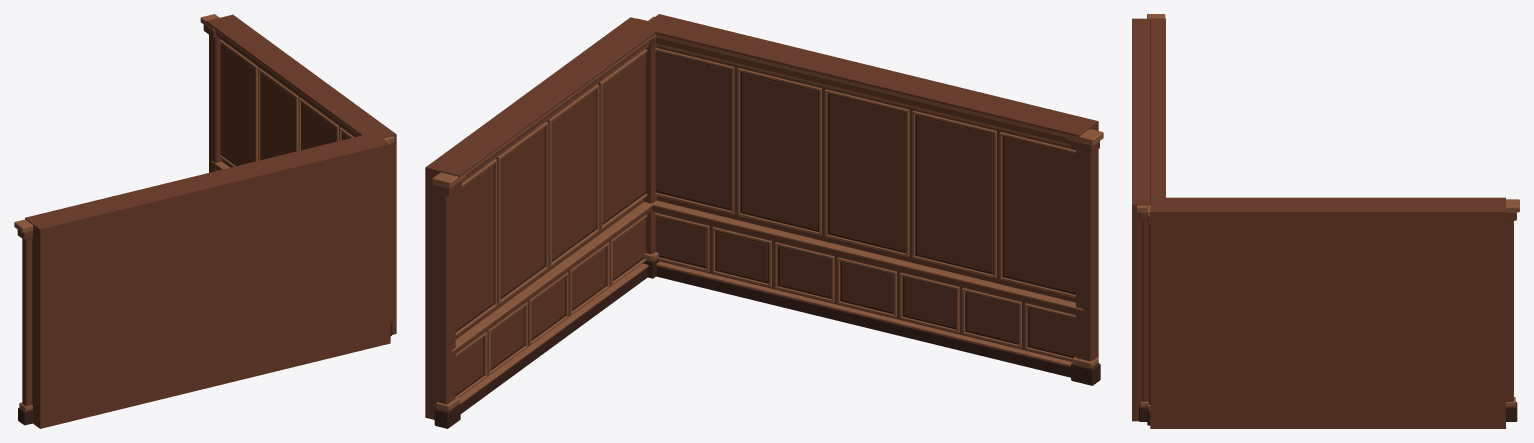
File: bp_complete_shell.glb
3 renders of one model, left to right at view 1: azimuth 30°, elevation 25°; view 2: azimuth 150°, elevation 25°; view 3: azimuth 270°, elevation 25°, orthographic. The views are drawn at different scales.
Parts seen in each view (by area): view 1: B_P_front_Wall_Solid_00, B_P_right_Wall_UpperPanel_00_0_0_Field, B_P_right_Wall_Solid_00, B_P_front_Wall_Cornice_00_3_0, B_P_right_Wall_UpperPanel_00_0_1_Field, B_P_right_Wall_Cornice_00_3_0, Pilaster_Shaft_009, Pilaster_Shaft_004, B_P_right_Wall_UpperPanel_00_0_2_Field, B_P_right_Wall_Cornice_00_1_0; view 2: B_P_front_Wall_Solid_00, B_P_front_Wall_UpperPanel_00_0_2_Field, B_P_front_Wall_UpperPanel_00_0_3_Field, B_P_front_Wall_UpperPanel_00_0_0_Field, B_P_front_Wall_UpperPanel_00_0_1_Field, B_P_front_Wall_UpperPanel_00_0_4_Field, B_P_right_Wall_Solid_00, B_P_right_Wall_UpperPanel_00_0_1_Field, B_P_right_Wall_UpperPanel_00_0_2_Field, B_P_right_Wall_UpperPanel_00_0_3_Field, B_P_right_Wall_UpperPanel_00_0_0_Field, B_P_front_Wall_Cornice_00_3_0 (+36 smaller); view 3: B_P_right_Wall_Solid_00, B_P_front_Wall_Solid_00, B_P_front_Wall_Cornice_00_3_0, B_P_right_Wall_Cornice_00_3_0, Pilaster_Shaft_004, Pilaster_Shaft_005.
Boxes of the visible parts, <box> form: B_P_front_Wall_Solid_00: <box>32,138,390,428</box>; B_P_right_Wall_UpperPanel_00_0_0_Field: <box>220,43,255,165</box>; B_P_right_Wall_Solid_00: <box>219,14,396,334</box>; B_P_front_Wall_Cornice_00_3_0: <box>25,132,381,223</box>; B_P_right_Wall_UpperPanel_00_0_1_Field: <box>261,73,295,159</box>; B_P_right_Wall_Cornice_00_3_0: <box>206,18,374,135</box>; Pilaster_Shaft_009: <box>22,238,32,406</box>; Pilaster_Shaft_004: <box>209,35,222,172</box>; B_P_right_Wall_UpperPanel_00_0_2_Field: <box>301,103,336,149</box>; B_P_right_Wall_Cornice_00_1_0: <box>216,32,358,136</box>; B_P_front_Wall_Solid_00: <box>649,14,1098,361</box>; B_P_front_Wall_UpperPanel_00_0_2_Field: <box>829,95,905,251</box>; B_P_front_Wall_UpperPanel_00_0_3_Field: <box>917,116,992,272</box>; B_P_front_Wall_UpperPanel_00_0_0_Field: <box>655,52,730,208</box>; B_P_front_Wall_UpperPanel_00_0_1_Field: <box>742,73,817,229</box>; B_P_front_Wall_UpperPanel_00_0_4_Field: <box>1004,137,1075,292</box>; B_P_right_Wall_Solid_00: <box>425,17,647,419</box>; B_P_right_Wall_UpperPanel_00_0_1_Field: <box>500,127,544,297</box>; B_P_right_Wall_UpperPanel_00_0_2_Field: <box>551,90,595,260</box>; B_P_right_Wall_UpperPanel_00_0_3_Field: <box>602,53,645,222</box>; B_P_right_Wall_UpperPanel_00_0_0_Field: <box>455,165,493,330</box>; B_P_front_Wall_Cornice_00_3_0: <box>641,21,1087,137</box>; B_P_right_Wall_Solid_00: <box>1150,204,1505,428</box>; B_P_front_Wall_Solid_00: <box>1132,18,1150,421</box>; B_P_front_Wall_Cornice_00_3_0: <box>1150,18,1165,204</box>; B_P_right_Wall_Cornice_00_3_0: <box>1150,197,1505,204</box>; Pilaster_Shaft_004: <box>1506,220,1513,401</box>; Pilaster_Shaft_005: <box>1142,220,1148,401</box>.
Bounding box in the file's own units: 7.3 × 3.71 × 6.
